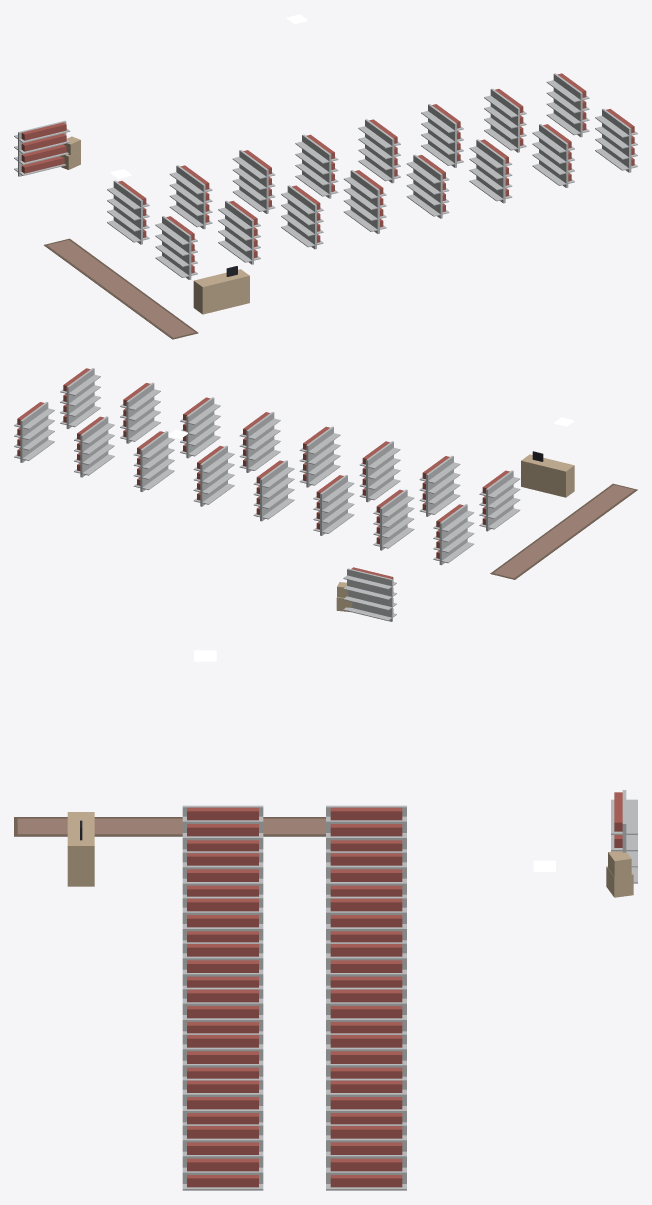
File: fine-s0.glb
The picture shows the model from 3 angles, top to bottom: view 1: azimuth 30°, elevation 25°; view 2: azimuth 150°, elevation 25°; view 3: azimuth 270°, elevation 25°; orthographic projection. The views are drawn at different scales.
Parts seen in each view (by area): view 1: soft-s0, shelving.000, shop-counter.000, shelf.002, shelf.014, shelf.007, shelf.000, shelf.012, shelf.005, shelf.011, shelf.006, shelf.015 (+8 smaller); view 2: soft-s0, shelving.000, shop-counter.000, shelf.000, shelf.001, shelf.002, shelf.006, shelf.005, shelf.009, shelf.010, shelf.003, shelf.012 (+7 smaller); view 3: shelf.015, shelf.014, soft-s0, shelf.001, shelf.005, shelf.009, shelf.013, shelf.000, shelf.004, shelf.008, shelf.012, shelf.003 (+8 smaller).
Part boxes in pixels (x1=…): soft-s0: x1=44, y1=238, x2=198, y2=339; shelving.000: x1=14, y1=120, x2=70, y2=176; shop-counter.000: x1=193, y1=266, x2=249, y2=314; shelf.002: x1=169, y1=165, x2=212, y2=229; shelf.014: x1=546, y1=73, x2=589, y2=137; shelf.007: x1=343, y1=170, x2=386, y2=233; shelf.000: x1=107, y1=180, x2=149, y2=244; shelf.012: x1=484, y1=88, x2=526, y2=152; shelf.005: x1=281, y1=185, x2=323, y2=249; shelf.011: x1=469, y1=139, x2=512, y2=203; shelf.006: x1=295, y1=134, x2=338, y2=198; shelf.015: x1=595, y1=108, x2=637, y2=172; soft-s0: x1=490, y1=483, x2=637, y2=579; shelving.000: x1=343, y1=567, x2=396, y2=621; shop-counter.000: x1=521, y1=451, x2=574, y2=497; shelf.000: x1=433, y1=504, x2=474, y2=565; shelf.001: x1=479, y1=470, x2=520, y2=531; shelf.002: x1=373, y1=489, x2=414, y2=550; shelf.006: x1=253, y1=460, x2=294, y2=521; shelf.005: x1=359, y1=441, x2=400, y2=502; shelf.009: x1=239, y1=412, x2=280, y2=472; shelf.010: x1=133, y1=431, x2=174, y2=491; shelf.003: x1=419, y1=455, x2=460, y2=516; shelf.012: x1=74, y1=416, x2=114, y2=477; shelf.015: x1=182, y1=1124, x2=263, y2=1190; shelf.014: x1=326, y1=1124, x2=406, y2=1190; soft-s0: x1=14, y1=817, x2=325, y2=836; shelf.001: x1=182, y1=805, x2=263, y2=851; shelf.005: x1=182, y1=896, x2=263, y2=942; shelf.009: x1=182, y1=987, x2=263, y2=1033; shelf.013: x1=182, y1=1078, x2=263, y2=1124; shelf.000: x1=326, y1=805, x2=406, y2=851; shelf.004: x1=326, y1=896, x2=406, y2=942; shelf.008: x1=326, y1=987, x2=406, y2=1033; shelf.012: x1=326, y1=1078, x2=406, y2=1124; shelf.003: x1=182, y1=851, x2=263, y2=896.
Bounding box in the file's own units: 19.95 × 4.23 × 13.91.
